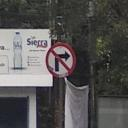NoVirarDireita: (46, 42, 76, 78)
